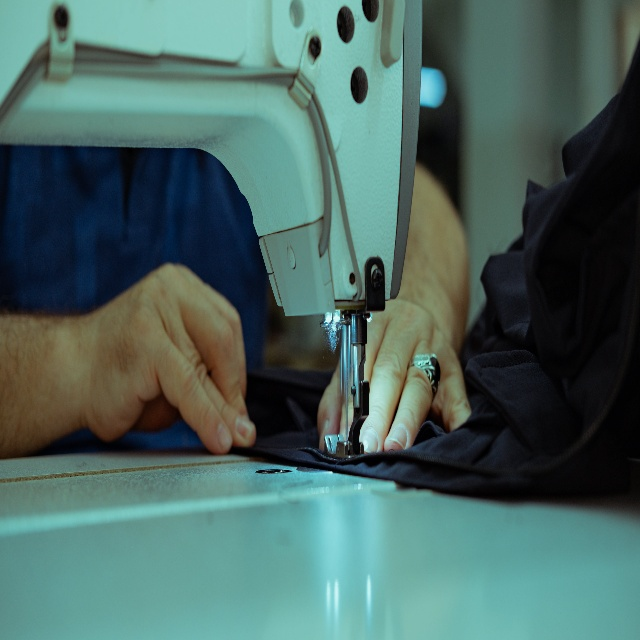Sin_guantes: (80, 265, 257, 455), (316, 291, 471, 454)
